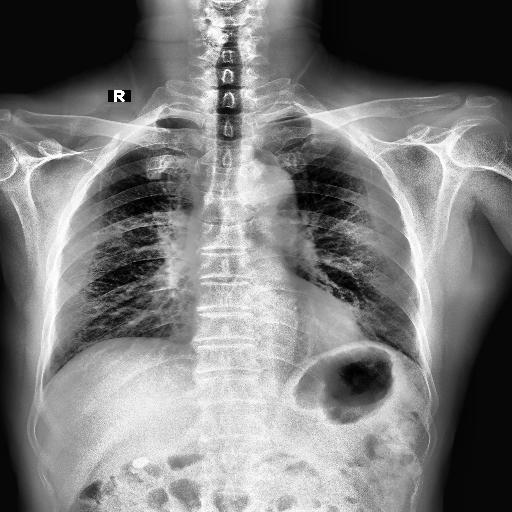0- Aortic enlargement: (237, 162, 297, 224), (234, 162, 294, 220), (258, 163, 296, 214)
